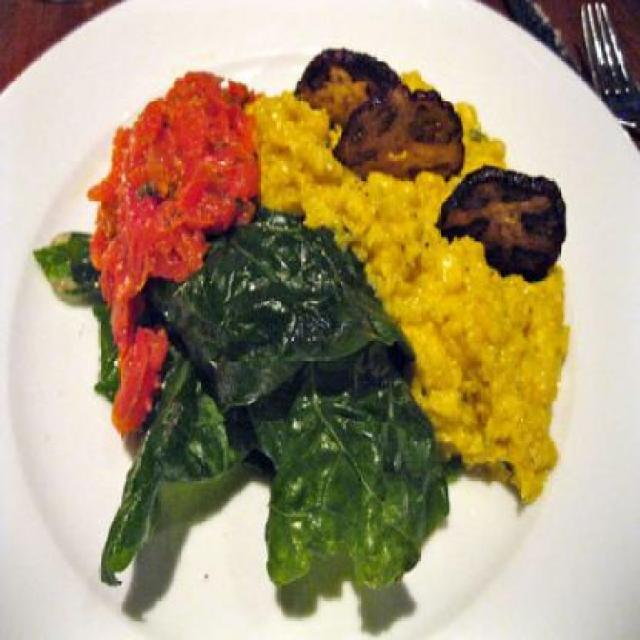Risotto: (266, 62, 578, 470)
